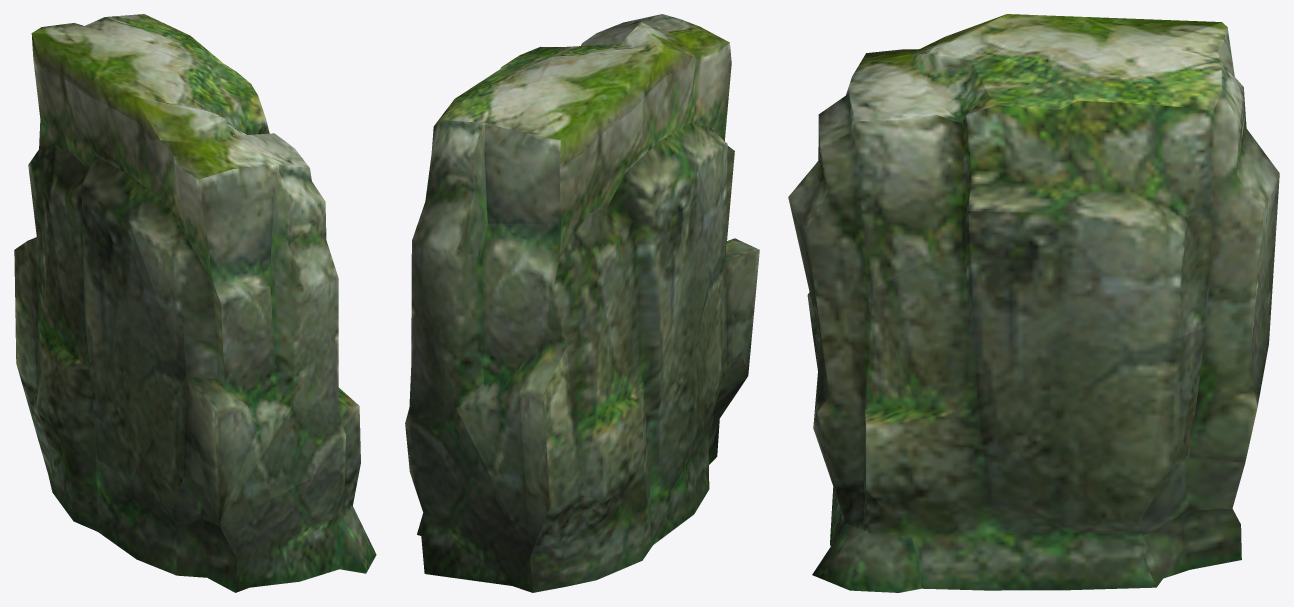
Rendered from S_Rock_Green048.FBX.
3 renders of one model, left to right at view 1: azimuth 30°, elevation 25°; view 2: azimuth 150°, elevation 25°; view 3: azimuth 270°, elevation 25°, orthographic. The views are drawn at different scales.
Visible parts, largest first — view 1: S_Rock_Green048; view 2: S_Rock_Green048; view 3: S_Rock_Green048.
Boxes of the visible parts, x1=… form: S_Rock_Green048: x1=14, y1=14, x2=376, y2=592; S_Rock_Green048: x1=405, y1=14, x2=759, y2=592; S_Rock_Green048: x1=788, y1=14, x2=1279, y2=592.
Size of the model in its own units: 952 by 2078 by 1894.
Materials: 1 (1 with a texture image).
